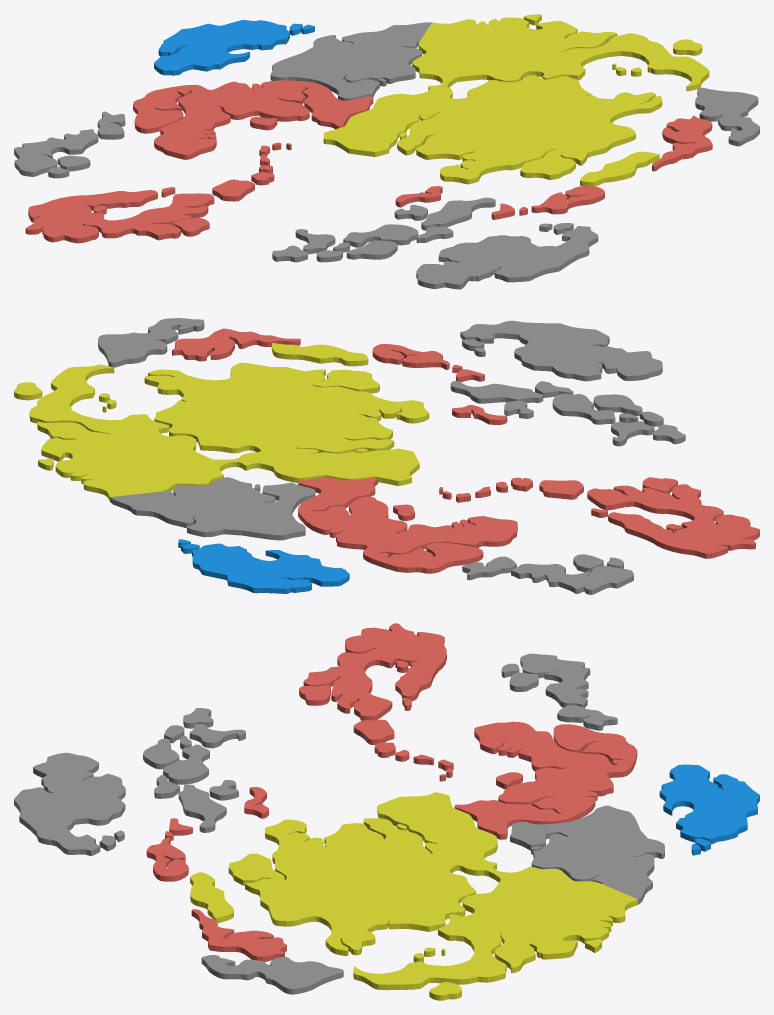
Rendered from Mapa-Aang.fbx.
3 views of the same model, one above another, from view 1: azimuth 30°, elevation 25°; view 2: azimuth 150°, elevation 25°; view 3: azimuth 270°, elevation 25° (orthographic). The views are drawn at different scales.
Visible parts, largest first — view 1: Reino Tierra.001, Destruidas, Nacion del Fuego.001, Tribu Agua Norte.001; view 2: Reino Tierra.001, Destruidas, Nacion del Fuego.001, Tribu Agua Norte.001; view 3: Reino Tierra.001, Destruidas, Nacion del Fuego.001, Tribu Agua Norte.001.
Boxes of the visible parts, box(x1,y1,x2,y2) form: Reino Tierra.001: box(323, 14, 709, 186); Destruidas: box(14, 22, 759, 289); Nacion del Fuego.001: box(25, 80, 712, 243); Tribu Agua Norte.001: box(154, 20, 314, 75); Reino Tierra.001: box(14, 343, 429, 501); Destruidas: box(98, 318, 685, 594); Nacion del Fuego.001: box(172, 328, 759, 573); Tribu Agua Norte.001: box(178, 539, 349, 593); Reino Tierra.001: box(190, 792, 637, 1000); Destruidas: box(14, 653, 664, 994); Nacion del Fuego.001: box(146, 623, 637, 961); Tribu Agua Norte.001: box(659, 764, 759, 855).
Bounding box in the file's own units: 441 × 3.15 × 373.
